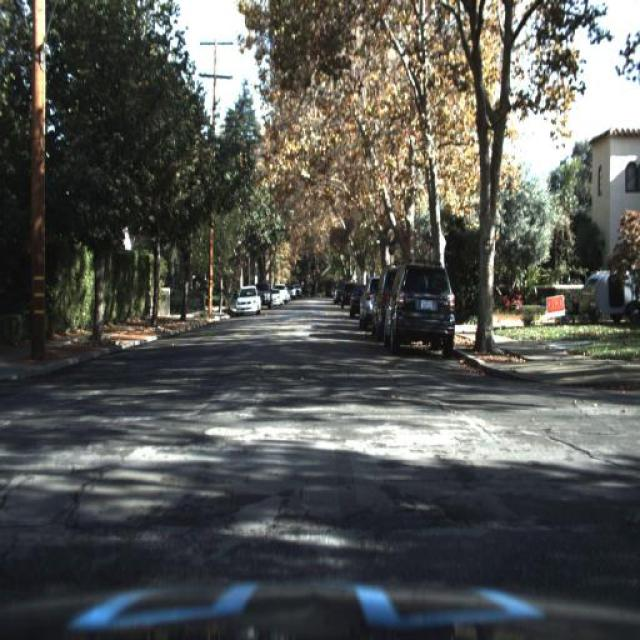car: (384, 258, 455, 356), (372, 260, 392, 350), (360, 272, 376, 332), (235, 284, 261, 318), (233, 286, 262, 316), (258, 280, 274, 316), (266, 282, 282, 308)
